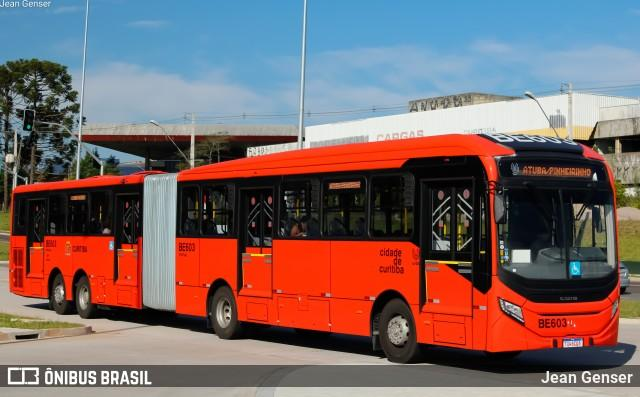ATUBA PINHEIRINHO: (519, 163, 594, 181)
